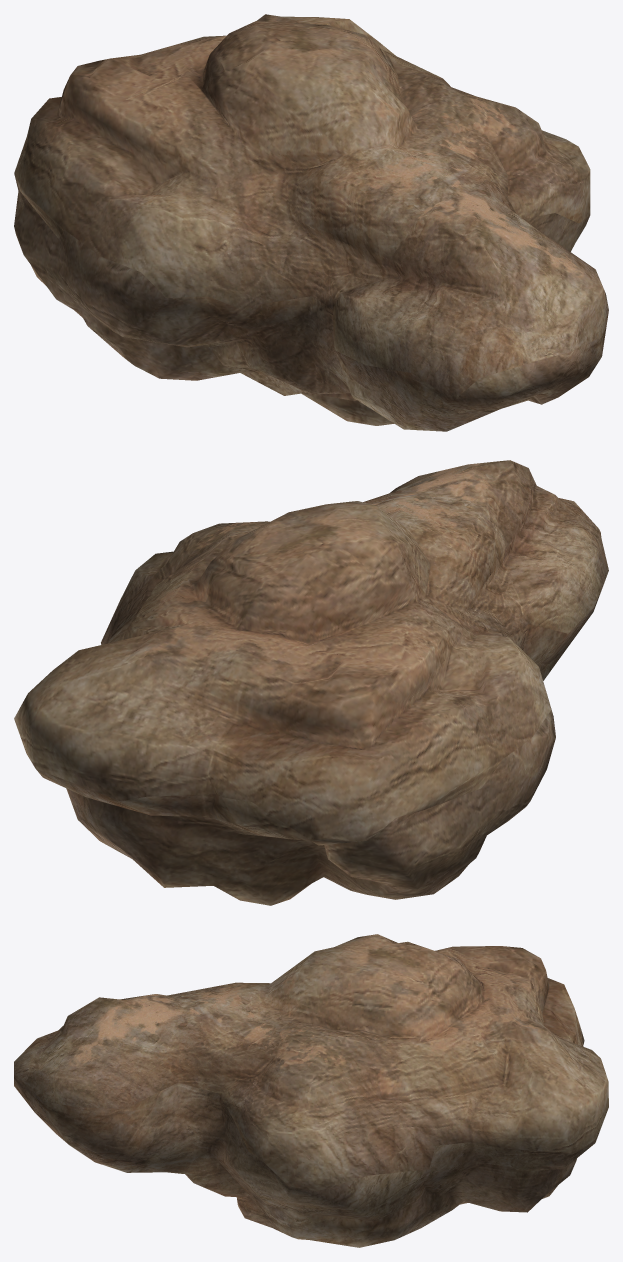
The model's file is rock_small05.dae.
3 renders of one model, top to bottom at view 1: azimuth 30°, elevation 25°; view 2: azimuth 150°, elevation 25°; view 3: azimuth 270°, elevation 25°, orthographic. The views are drawn at different scales.
Parts seen in each view (by area): view 1: Mesh03; view 2: Mesh03; view 3: Mesh03.
Boxes of the visible parts, bbox=[...] form: Mesh03: bbox=[14, 14, 608, 431]; Mesh03: bbox=[14, 460, 608, 905]; Mesh03: bbox=[14, 934, 608, 1247].
Bounding box in the file's own units: 3.94 × 2.8 × 5.8.
